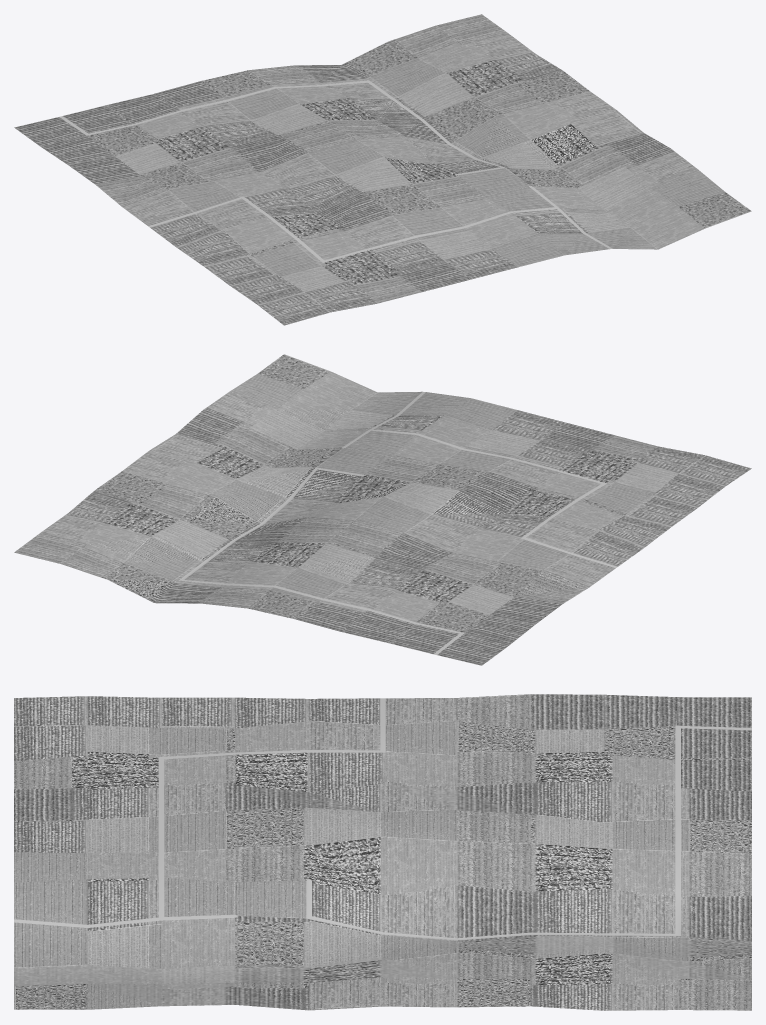
The model's file is SM_Field.fbx.
The picture shows the model from 3 angles, top to bottom: view 1: azimuth 30°, elevation 25°; view 2: azimuth 150°, elevation 25°; view 3: azimuth 270°, elevation 25°; orthographic projection. The views are drawn at different scales.
Visible parts, largest first — view 1: Grid; view 2: Grid; view 3: Grid.
Part boxes in pixels (<box>): Grid: <box>14,14,751,325</box>; Grid: <box>14,354,751,665</box>; Grid: <box>14,694,751,1010</box>.
Size of the model in its own units: 20 by 1.23 by 20.
